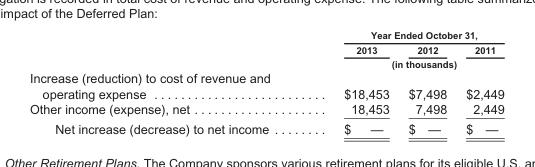table: (28, 29, 503, 135)
table column: (28, 29, 306, 135), (306, 29, 398, 135), (398, 29, 455, 135), (455, 29, 503, 135)
table column header: (28, 29, 503, 70)
table row: (28, 70, 503, 100), (28, 100, 503, 118), (28, 118, 503, 135), (28, 42, 503, 56), (28, 56, 503, 70), (28, 29, 503, 42)
table spanning cell: (306, 56, 503, 70), (306, 29, 503, 42)
